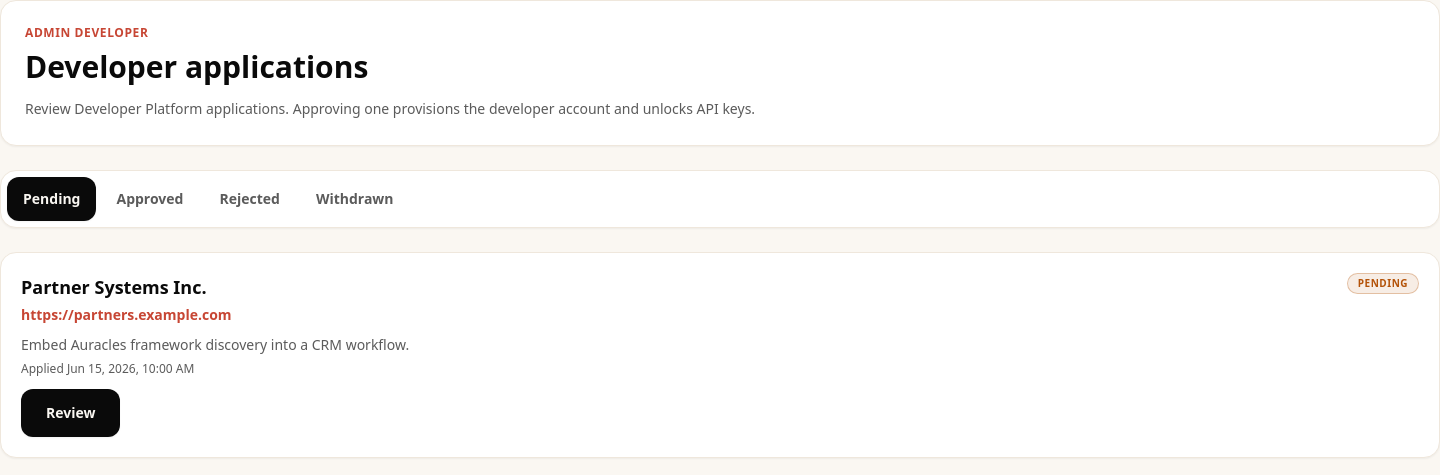
Test: AdminDeveloperApplicationsPanel › refetches when the status filter changes
Check: the heading "Partner Systems Inc." is shown, box [21, 275, 206, 299]
Click the button "approved" at (150,199), box [100, 177, 200, 221]
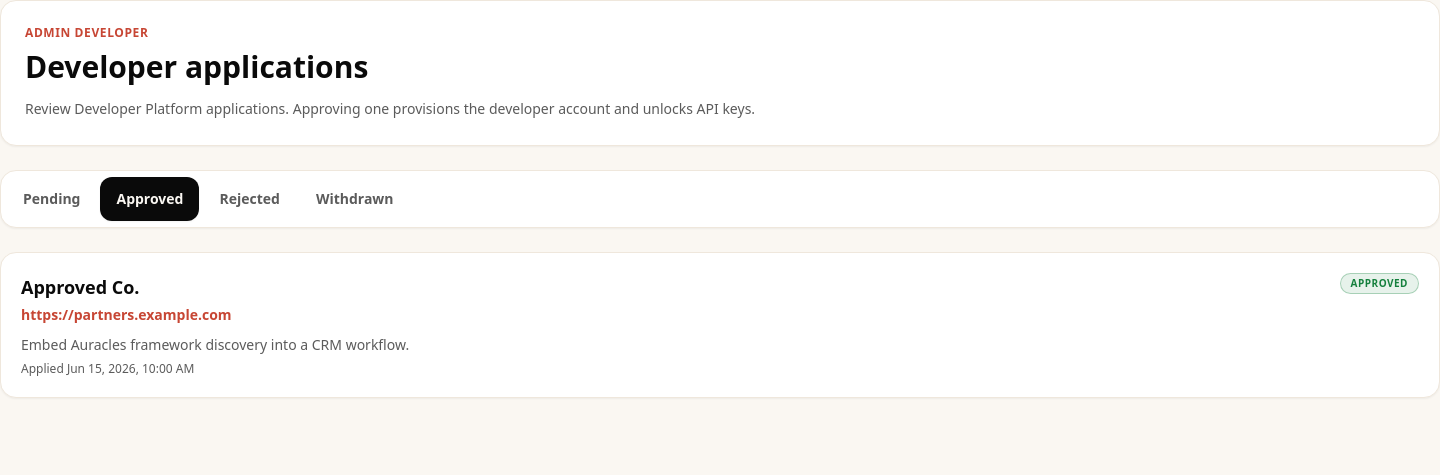
Check: the heading "Approved Co." is shown, box [21, 275, 140, 299]
